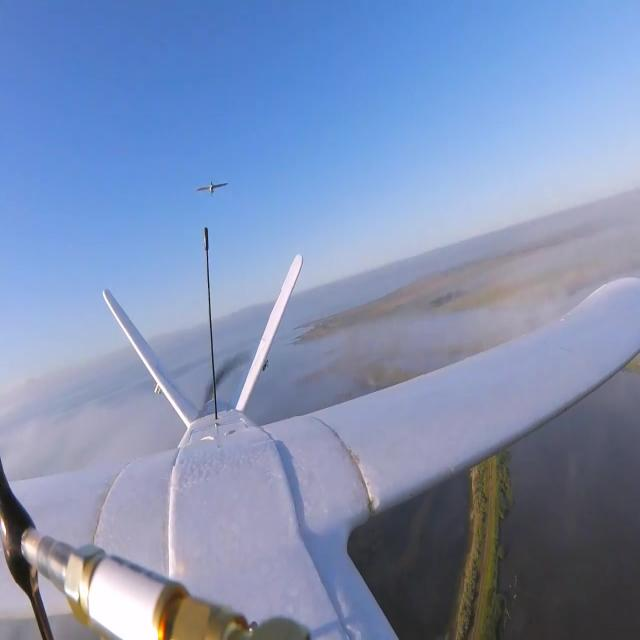iha: (194, 178, 229, 198)
